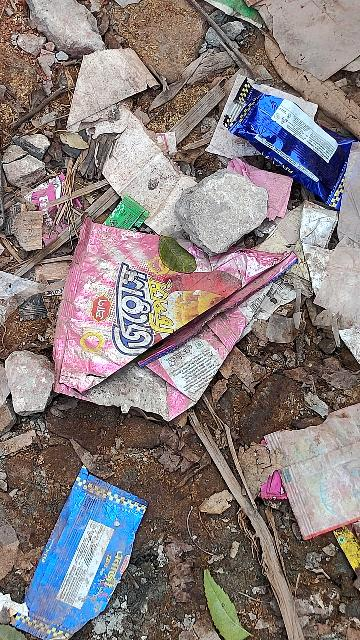packet: (86, 210, 245, 422), (17, 445, 159, 625), (237, 74, 351, 202)
